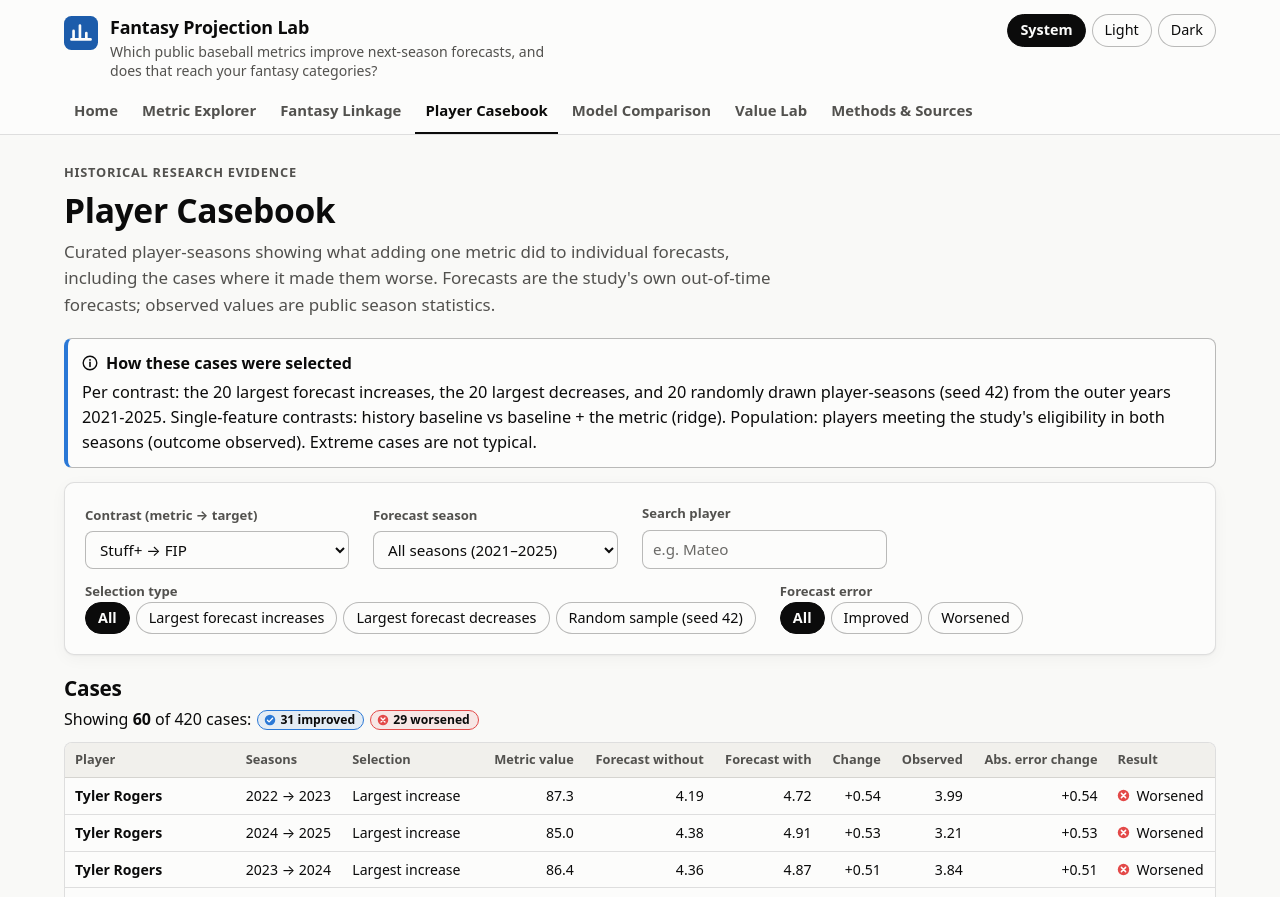
it: Player Casebook › shows the selection note and filters by selection type and player
Later steps or results of the test are not shown.
expect the text "the 20 largest forecast increases, the 20 largest decreases" is shown: met, box [82, 381, 1171, 453]
expect the text "Showing 60 of 420 cases: 31 improved 29 worsened" is shown: met, box [64, 708, 479, 730]
What coordinates should you click on to do the following:
click the radio button labelled "Largest forecast decreases"
I would click on:
 (446, 618)
Its box is [343, 602, 550, 634].
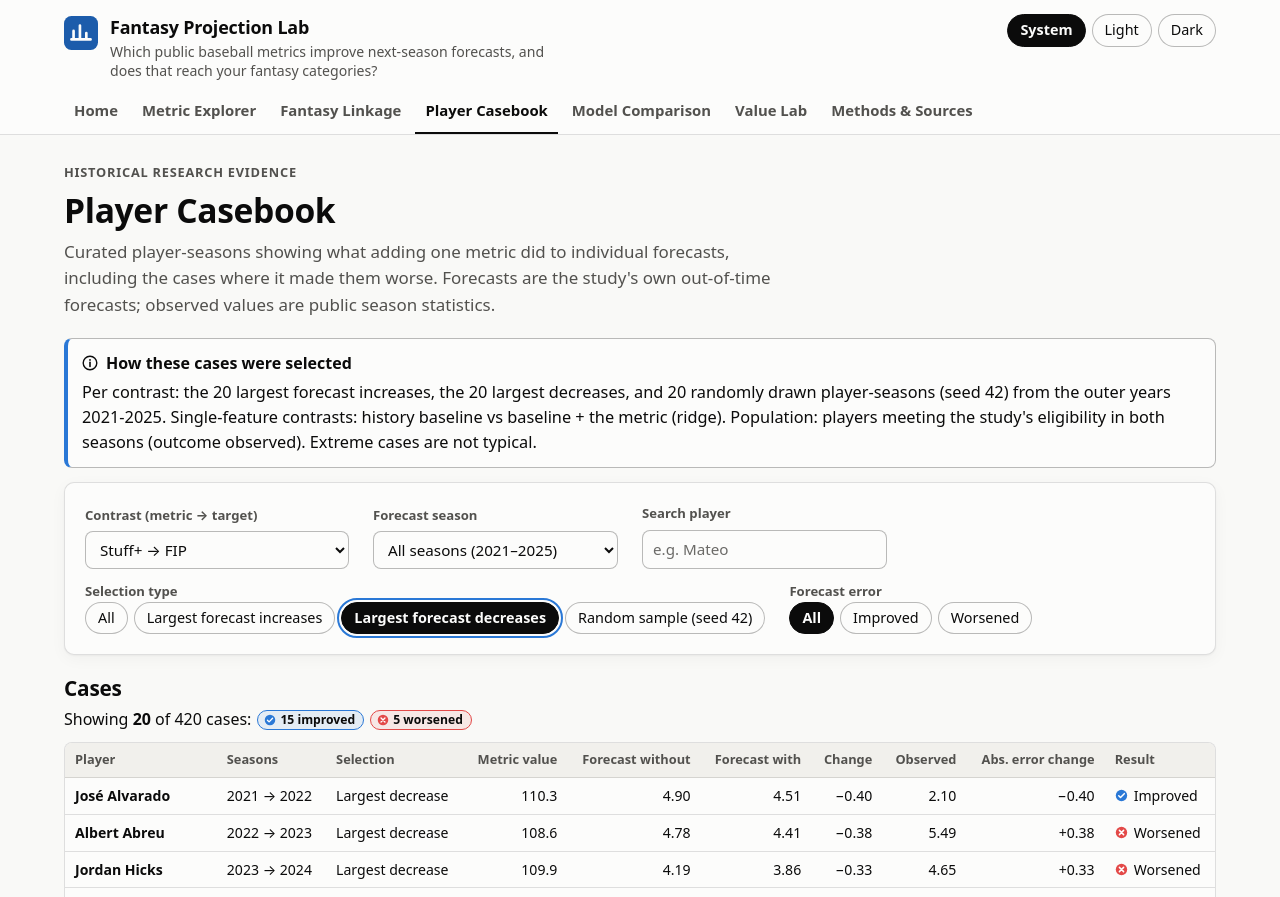
expect the text "Showing 20 of 420 cases: 15 improved 5 worsened" is shown: met, box [64, 708, 472, 730]
